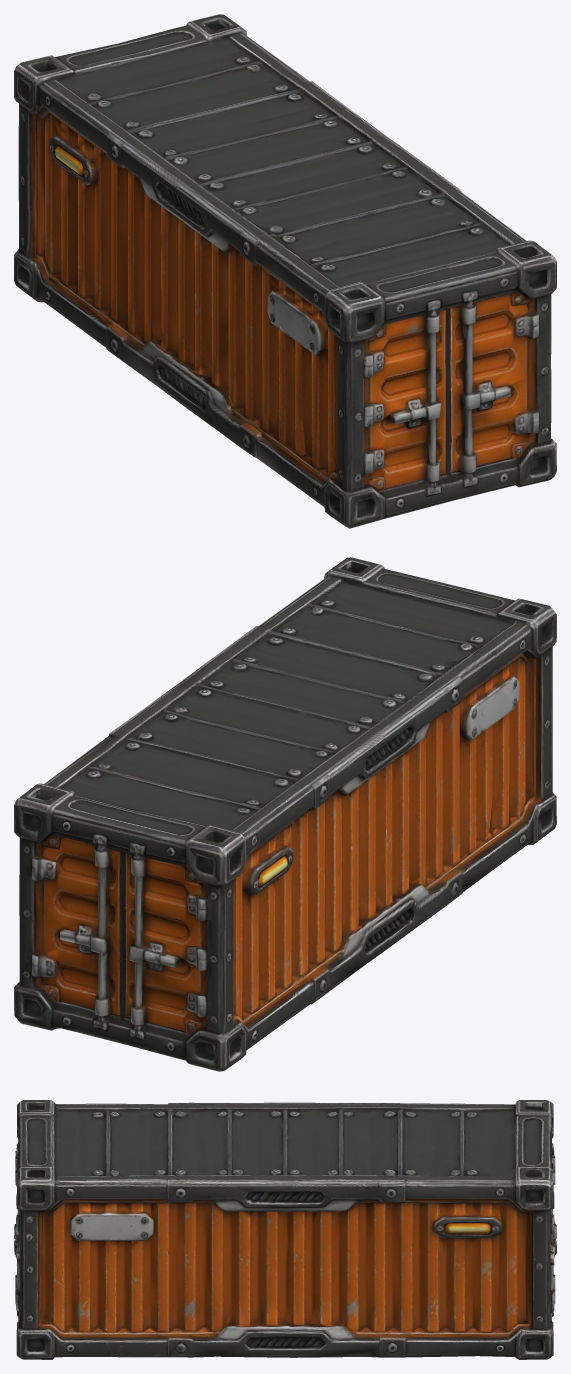
The model's file is container.glb.
The picture shows the model from 3 angles, top to bottom: view 1: azimuth 30°, elevation 25°; view 2: azimuth 150°, elevation 25°; view 3: azimuth 270°, elevation 25°; orthographic projection. The views are drawn at different scales.
Visible parts, largest first — view 1: tripo_node_4c646b34-b959-452f-b0b6-9252d045e2be; view 2: tripo_node_4c646b34-b959-452f-b0b6-9252d045e2be; view 3: tripo_node_4c646b34-b959-452f-b0b6-9252d045e2be.
Part boxes in pixels (bbox=[...]): tripo_node_4c646b34-b959-452f-b0b6-9252d045e2be: bbox=[14, 14, 556, 528]; tripo_node_4c646b34-b959-452f-b0b6-9252d045e2be: bbox=[14, 557, 556, 1071]; tripo_node_4c646b34-b959-452f-b0b6-9252d045e2be: bbox=[14, 1100, 556, 1359].
Bounding box in the file's own units: 0.3554 × 0.3602 × 0.9815.
1 material, 1 textured.
